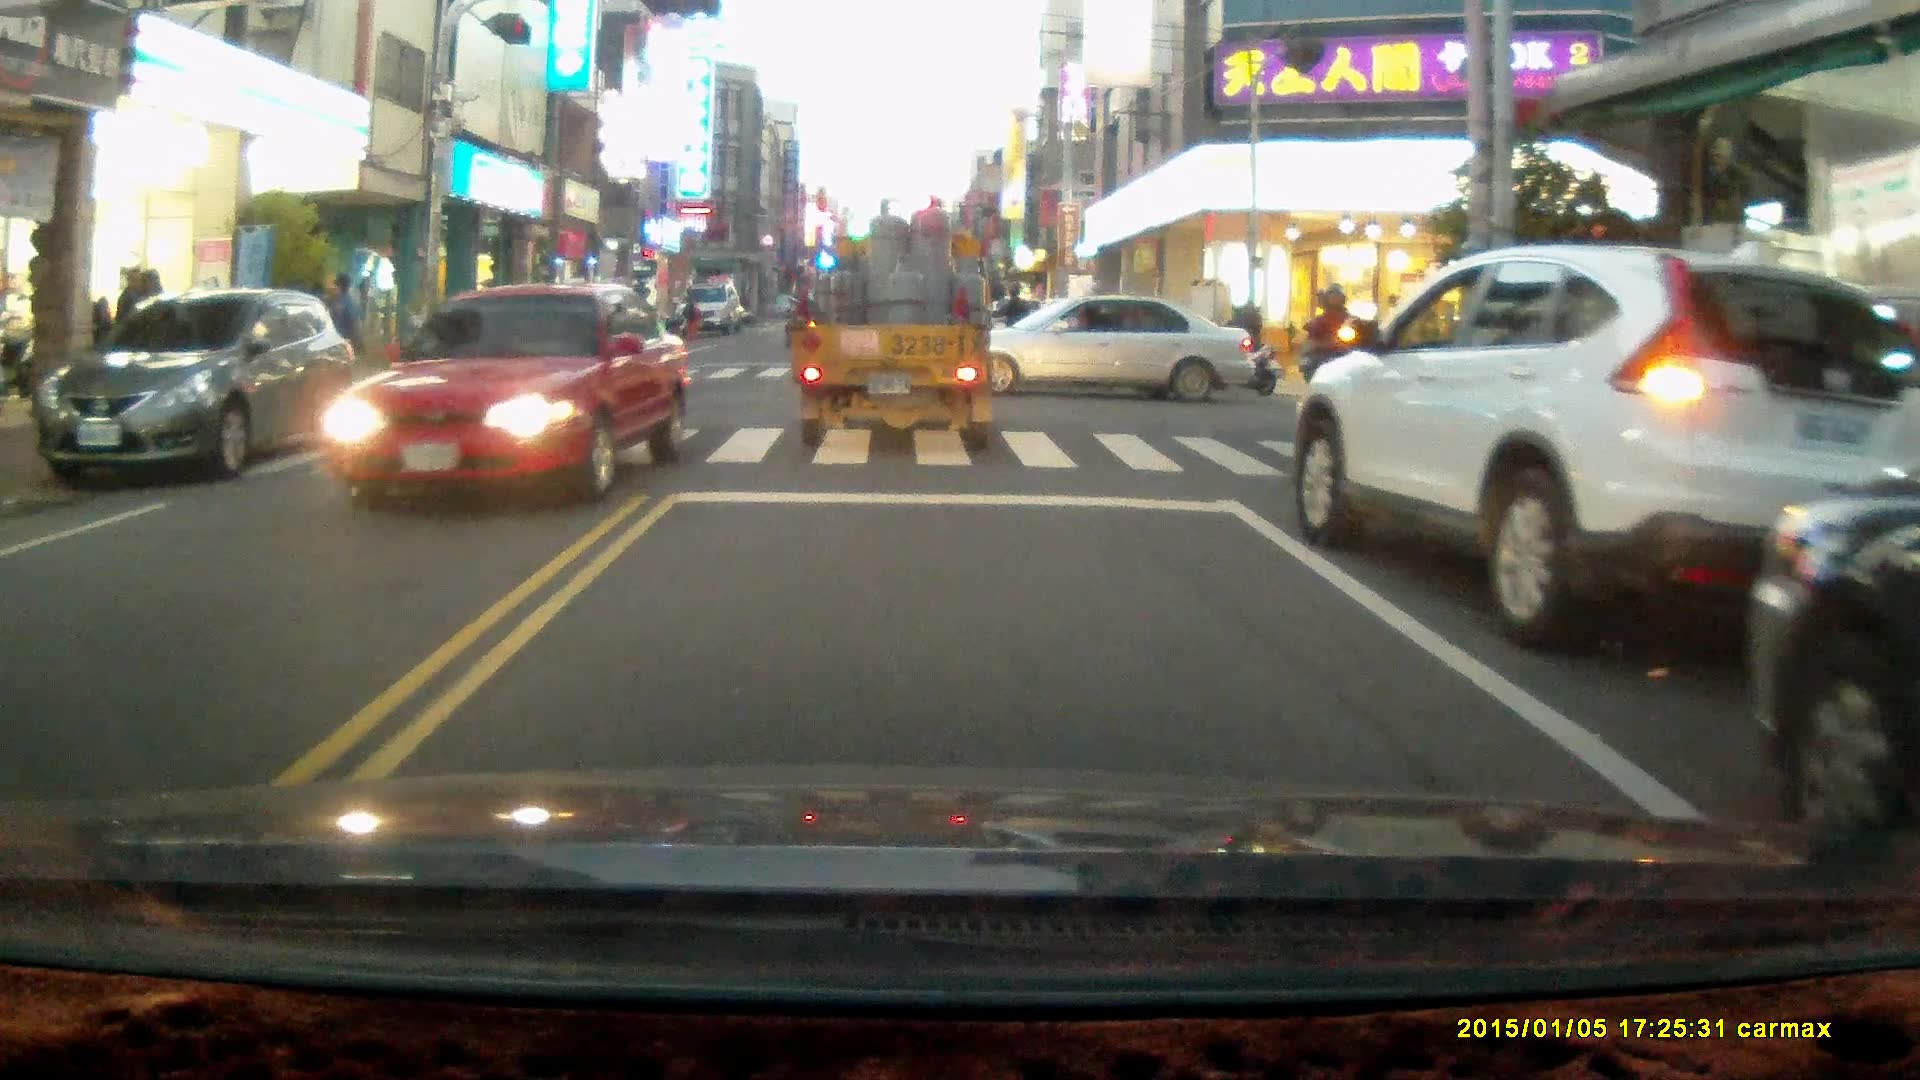pedestrian: (317, 270, 362, 396)
rider: (1294, 280, 1380, 451), (1188, 289, 1279, 394)
vehicle: (1288, 246, 1920, 660), (329, 281, 702, 504), (1741, 490, 1920, 877), (30, 286, 363, 488), (792, 192, 1000, 459), (934, 293, 1255, 408), (676, 284, 743, 336)
